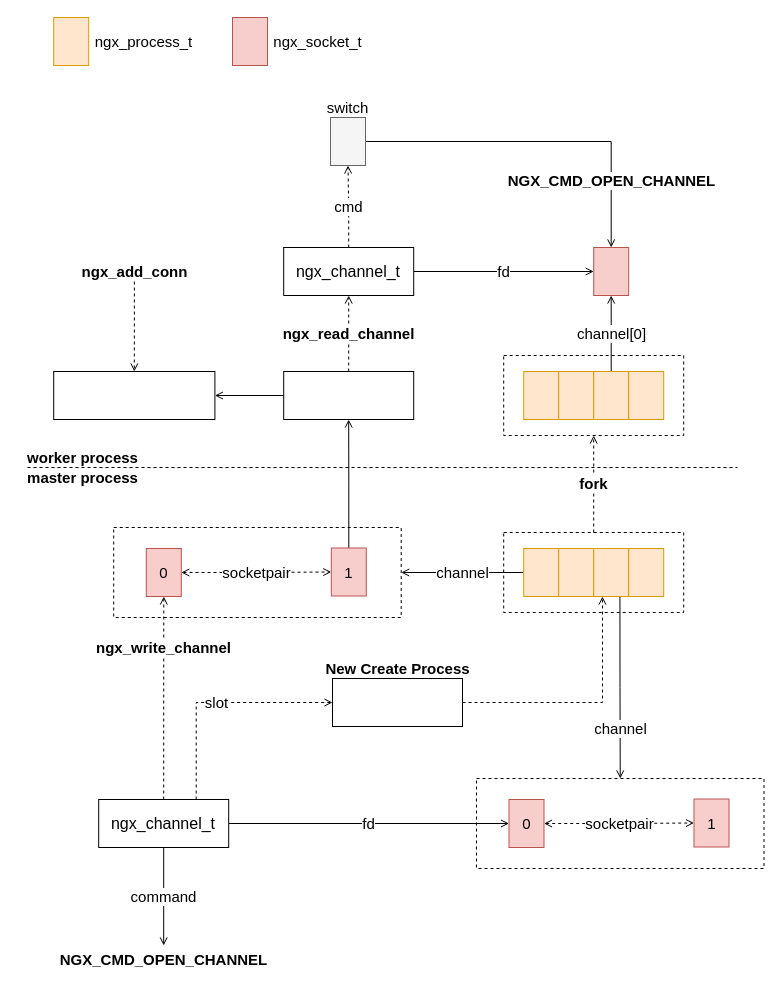
Image size: 781x987. Some labels were removed from this diagram. The shapes that lost their labels are listed below. From the top down, each one's centre as x and y in pixels, then its label:
At pixel 134 395: "ngx_connection_t".
At pixel 348 395: "ngx_channel".
At pixel 397 702: "ngx_process_slot".
